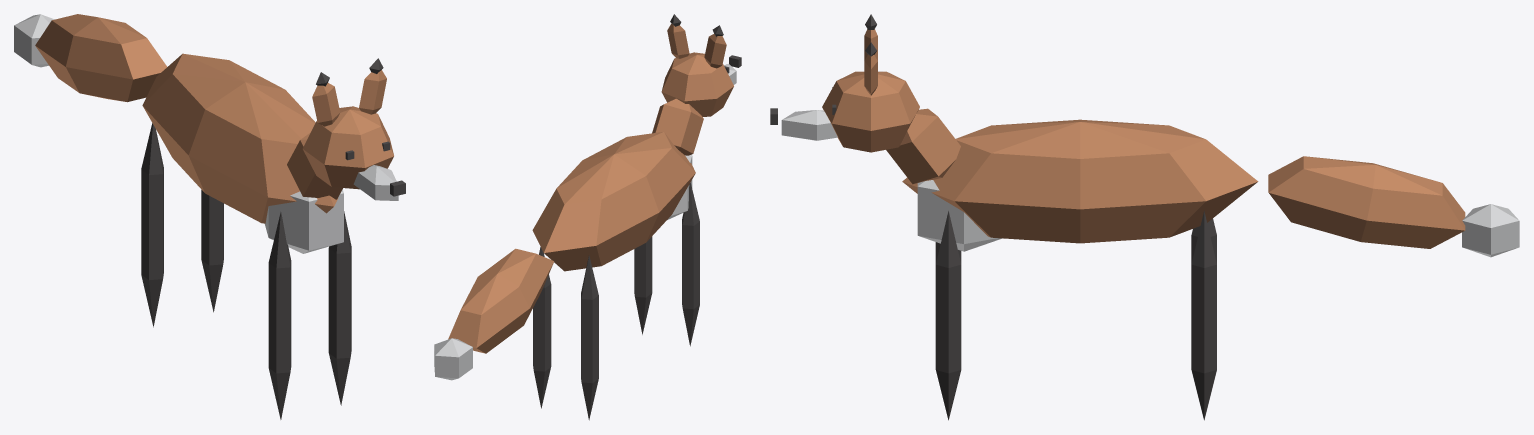
Rendered from kettu.glb.
3 views of the same model, side by side, from view 1: azimuth 30°, elevation 25°; view 2: azimuth 150°, elevation 25°; view 3: azimuth 270°, elevation 25° (orthographic). The views are drawn at different scales.
Parts seen in each view (by area): view 1: runko, hanta, paa, jalka_eo, jalka_to, jalka_ev, jalka_tv, korva_o, korva_v; view 2: runko, hanta, paa, jalka_to, jalka_eo, jalka_tv, jalka_ev, korva_o, korva_v; view 3: runko, hanta, paa, jalka_ev, jalka_tv.
Part boxes in pixels (x1,y1,x2,y2): runko: (142,53,343,253); hanta: (14,14,166,102); paa: (287,106,405,200); jalka_eo: (268,212,291,419); jalka_to: (141,123,163,327); jalka_ev: (328,211,351,405); jalka_tv: (201,190,223,312); korva_o: (312,72,340,126); korva_v: (359,58,386,114); runko: (532,131,695,271); hanta: (434,248,554,380); paa: (652,52,741,155); jalka_to: (581,255,598,420); jalka_eo: (682,182,699,346); jalka_tv: (533,247,551,408); jalka_ev: (634,236,652,334); korva_o: (704,25,726,68); korva_v: (667,14,689,58); runko: (902,119,1258,251); hanta: (1268,156,1519,257); paa: (770,71,960,184); jalka_ev: (935,211,961,420); jalka_tv: (1191,211,1216,420).
Bounding box in the file's own units: 0.17 × 0.5387 × 0.9671.
